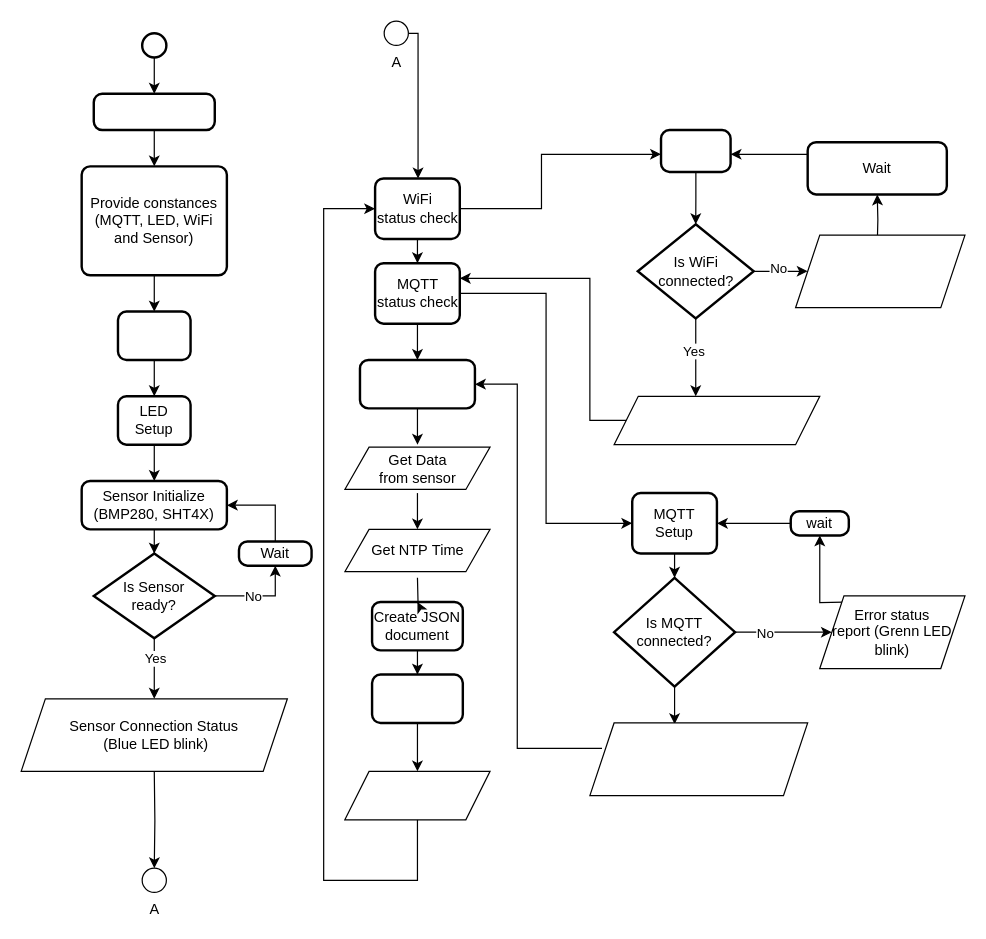
This 986x939 diagram has some shape labels left out. Each missing label, with the centre of its shape:
"Connection report (Green LED Hold)" goes at point (698, 759).
"Create payload" goes at point (416, 698).
"Include library" goes at point (153, 111).
"NTP Setup" goes at point (153, 335).
"Publish MQTT" goes at point (417, 795).
"Setup WiFi" goes at point (695, 150).
"WiFi Error Status Report (Red LED)" goes at point (879, 271).
"WiFi status Report (Purple LED blink)" goes at point (716, 420).
"Yellow LED Blink (Alive Report)" goes at point (417, 383).
